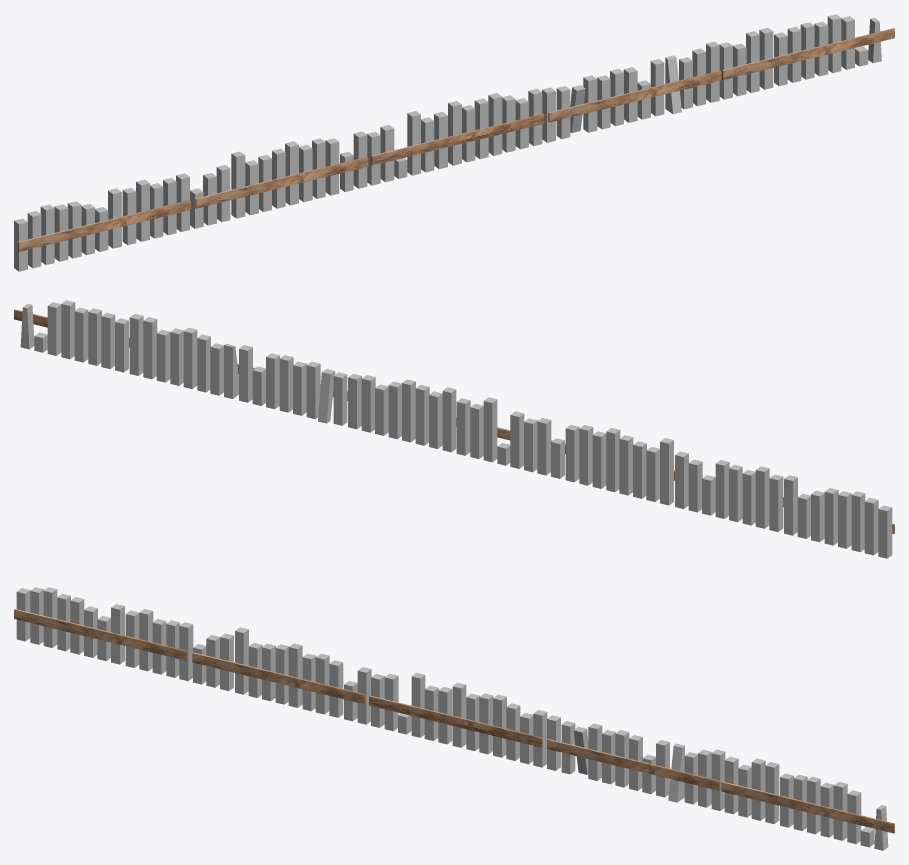
The model's file is Cerca Irregular.obj.
The picture shows the model from 3 angles, top to bottom: view 1: azimuth 30°, elevation 25°; view 2: azimuth 150°, elevation 25°; view 3: azimuth 330°, elevation 25°; orthographic projection.
Parts seen in each view (by area): view 1: pCube7; view 2: pCube7; view 3: pCube7.
Boxes of the visible parts, x1,y1,x2,y2 form: pCube7: [14, 14, 894, 271]; pCube7: [14, 300, 894, 558]; pCube7: [14, 587, 894, 850].
Bounding box in the file's own units: 99.56 × 6.67 × 1.91.
